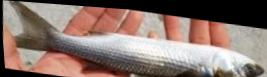fish: (8, 0, 263, 77)
